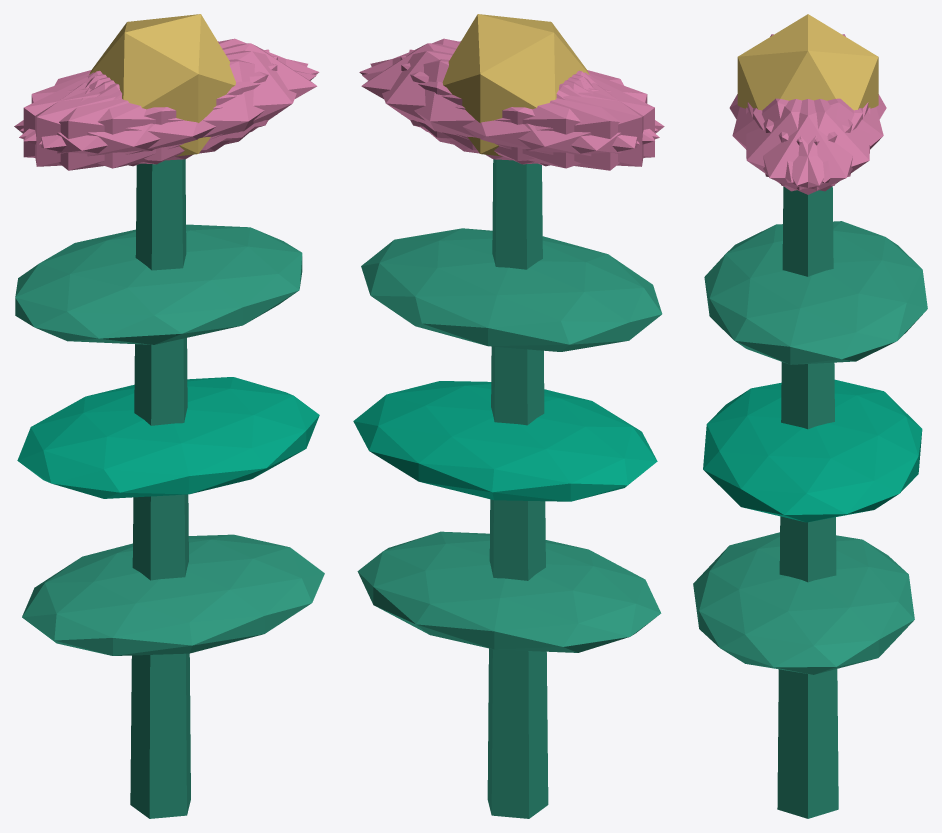
Rendered from corchorus-olitorius.glb.
The picture shows the model from 3 angles, left to right: view 1: azimuth 30°, elevation 25°; view 2: azimuth 150°, elevation 25°; view 3: azimuth 270°, elevation 25°; orthographic projection.
Visible parts, largest first — view 1: leaf0, leaf1, leaf2, stem, center, petal1, petal6, petal2, petal5, petal7, petal0, petal4 (+2 smaller); view 2: leaf2, leaf1, leaf0, stem, center, petal8, petal3, petal7, petal4, petal2, petal0, petal5 (+2 smaller); view 3: leaf1, leaf2, leaf0, stem, center, petal0, petal5, petal4, petal1, petal8.
Boxes of the visible parts, <box> form: leaf0: <box>22,534,324,655</box>; leaf1: <box>17,377,319,498</box>; leaf2: <box>15,224,302,344</box>; stem: <box>130,159,190,818</box>; center: <box>89,14,235,156</box>; petal1: <box>19,59,316,168</box>; petal6: <box>14,72,229,170</box>; petal2: <box>35,49,269,166</box>; petal5: <box>39,50,307,160</box>; petal7: <box>23,56,277,164</box>; petal0: <box>89,43,317,150</box>; petal4: <box>20,38,319,141</box>; leaf2: <box>361,228,662,351</box>; leaf1: <box>353,381,657,501</box>; leaf0: <box>357,531,661,652</box>; stem: <box>487,159,548,818</box>; center: <box>442,14,589,156</box>; petal8: <box>362,59,659,168</box>; petal3: <box>449,72,664,170</box>; petal7: <box>409,49,643,166</box>; petal4: <box>370,50,639,160</box>; petal2: <box>400,56,654,164</box>; petal0: <box>361,43,589,150</box>; petal5: <box>359,38,658,141</box>; leaf1: <box>703,379,922,522</box>; leaf2: <box>704,221,927,364</box>; leaf0: <box>693,532,914,674</box>; stem: <box>777,186,838,818</box>; center: <box>737,14,878,110</box>; petal0: <box>747,99,868,194</box>; petal5: <box>746,99,862,191</box>; petal4: <box>753,99,870,191</box>; petal1: <box>732,98,852,182</box>; petal8: <box>763,98,883,182</box>.
Bounding box in the file's own units: 0.1452 × 0.3709 × 0.1021.
